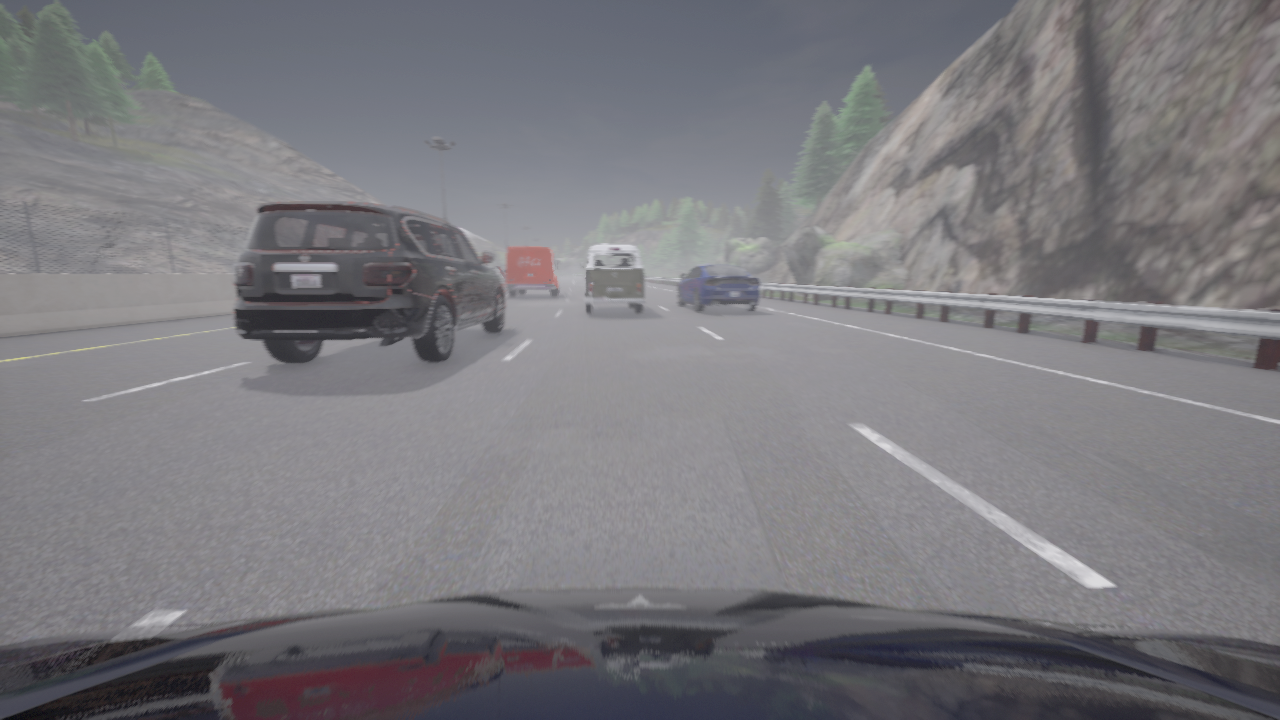cyclist: (0, 588, 1279, 719), (232, 202, 505, 363), (580, 244, 644, 314), (677, 263, 759, 312), (505, 248, 559, 296), (490, 267, 506, 287)
